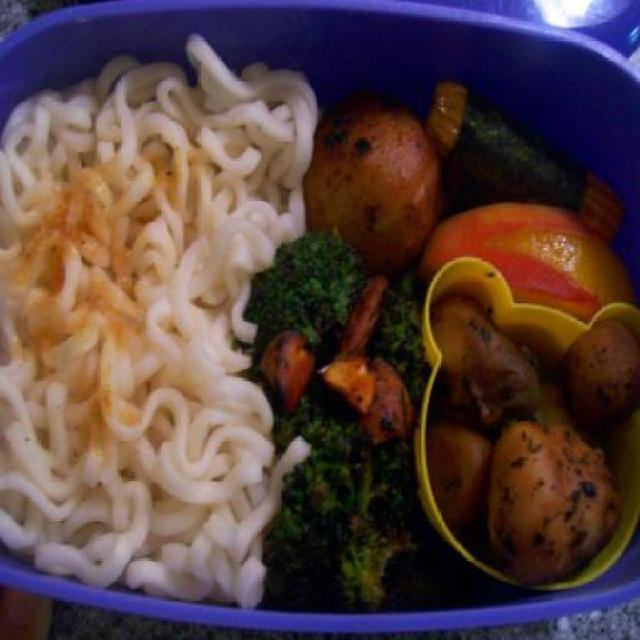Potato: (488, 416, 624, 586), (427, 296, 544, 424), (564, 311, 640, 434), (426, 408, 490, 530)
